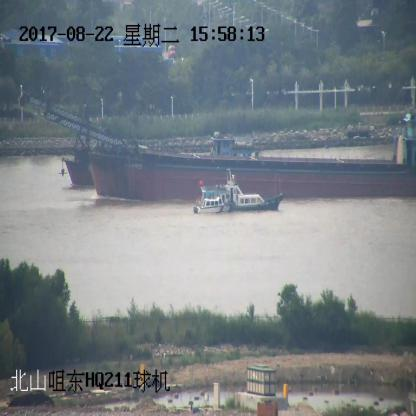Bulk Carrier: (21, 93, 416, 203), (60, 156, 96, 186)
